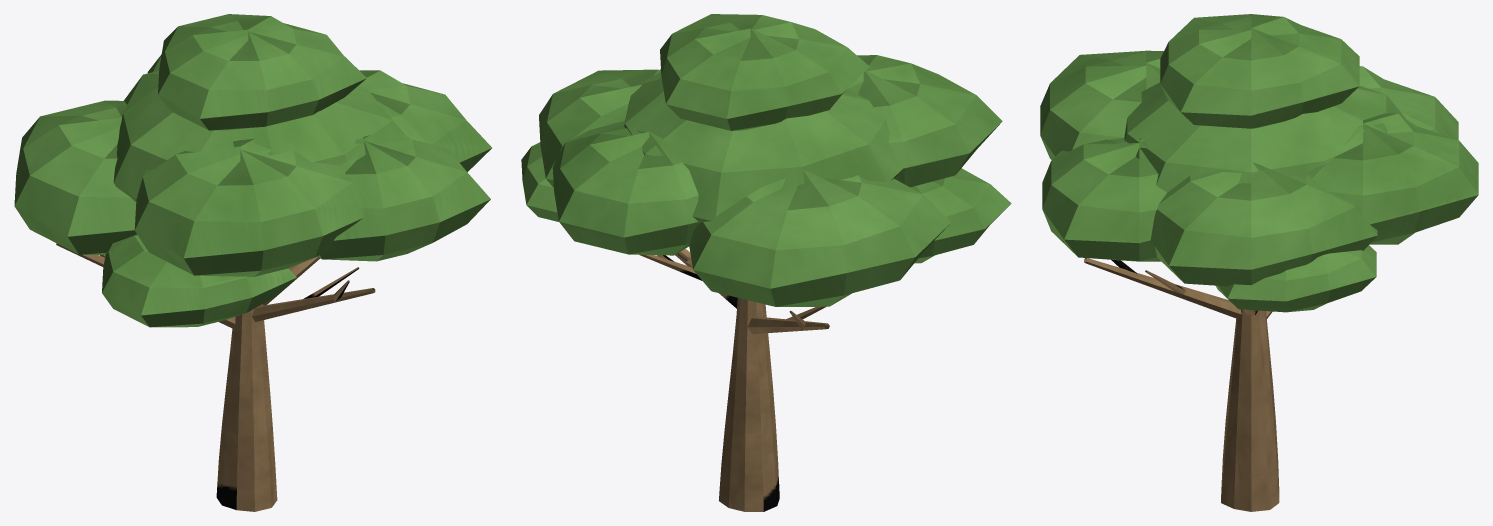
Rendered from oak.glb.
3 views of the same model, side by side, from view 1: azimuth 30°, elevation 25°; view 2: azimuth 150°, elevation 25°; view 3: azimuth 270°, elevation 25° (orthographic).
Parts seen in each view (by area): view 1: OakCrown, OakTrunk; view 2: OakCrown, OakTrunk; view 3: OakCrown, OakTrunk.
Boxes of the visible parts, left/top/right/bottom form: OakCrown: left=14, top=14, right=491, bottom=327; OakTrunk: left=56, top=243, right=375, bottom=511; OakCrown: left=521, top=14, right=1011, bottom=306; OakTrunk: left=639, top=248, right=829, bottom=511; OakCrown: left=1040, top=14, right=1478, bottom=312; OakTrunk: left=1084, top=258, right=1279, bottom=511.
Size of the model in its own units: 13.6 by 14.87 by 12.55.
2 materials, 2 textured.
